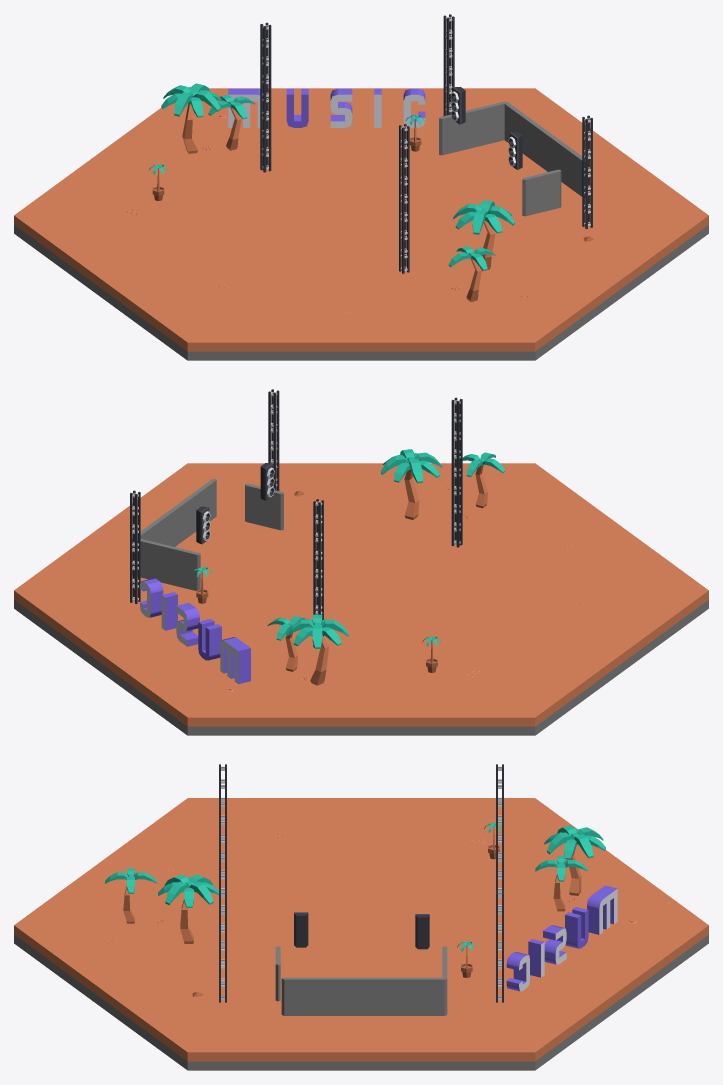
File: Music-Space-v2 - not walkable.fbx
3 renders of one model, top to bottom at view 1: azimuth 30°, elevation 25°; view 2: azimuth 150°, elevation 25°; view 3: azimuth 270°, elevation 25°, orthographic.
Visible parts, largest first — view 1: mergedBlocks; view 2: mergedBlocks; view 3: mergedBlocks.
Part boxes in pixels (<box>): mergedBlocks: <box>14,14,708,360</box>; mergedBlocks: <box>14,389,708,735</box>; mergedBlocks: <box>14,764,708,1070</box>.
Bounding box in the file's own units: 600 × 270 × 693.
